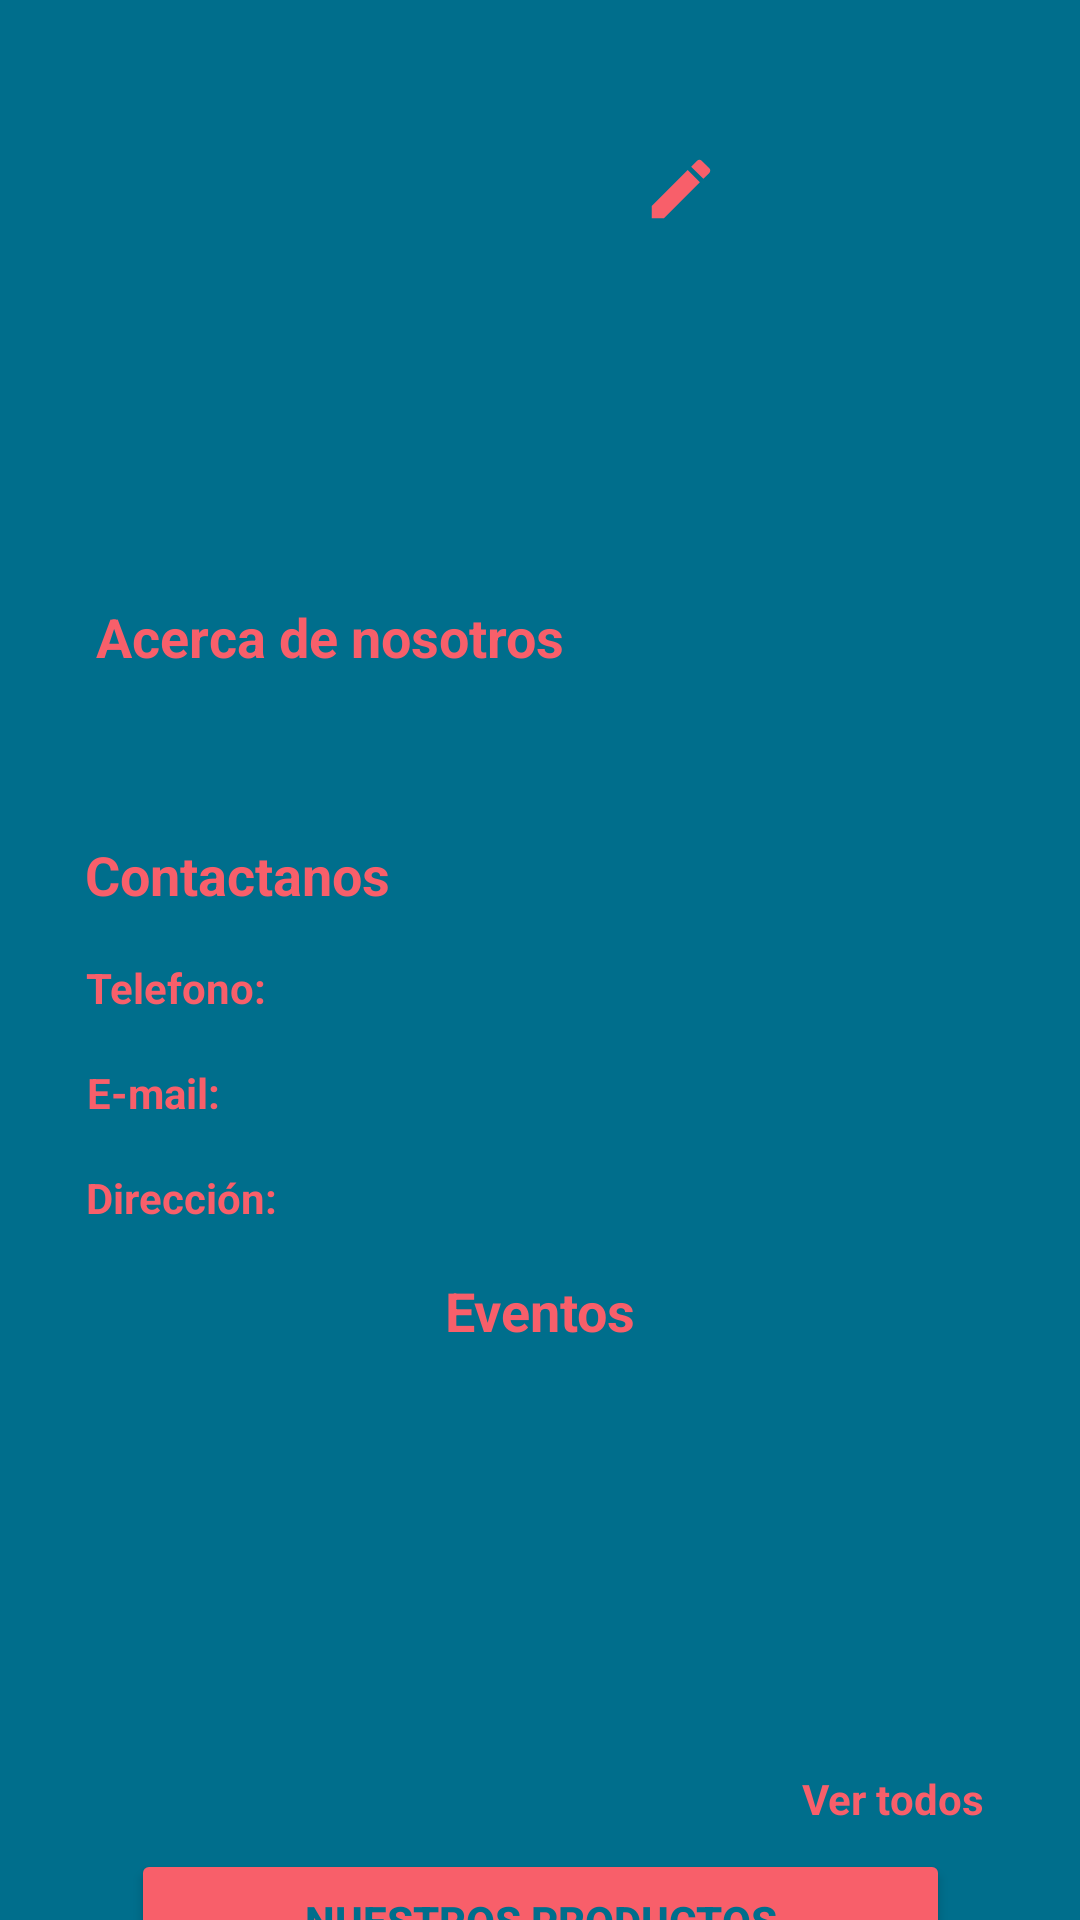

Named icons in this screenshot (1080 × 1920) and their centers, [x,y]:
edit: [681,189]
